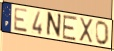4: (31, 10, 44, 36)
E: (62, 15, 78, 43), (13, 7, 29, 34)
N: (45, 11, 62, 39)
O: (95, 21, 110, 47)
X: (79, 17, 94, 44)
